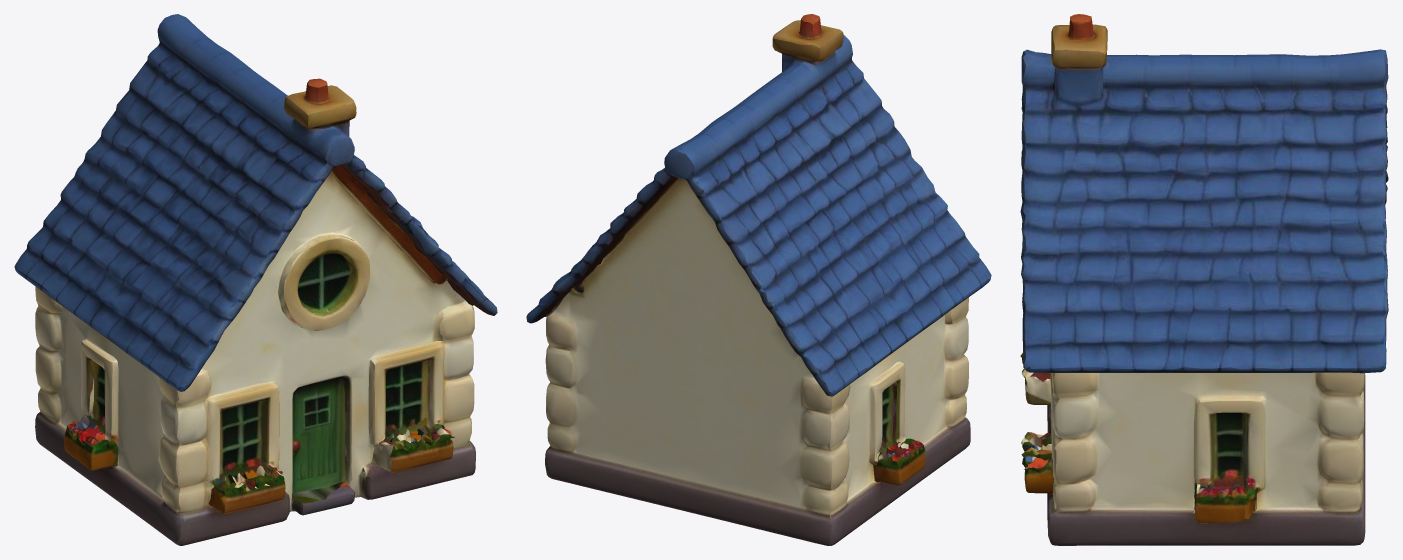
File: cottage_c.glb
3 renders of one model, left to right at view 1: azimuth 30°, elevation 25°; view 2: azimuth 150°, elevation 25°; view 3: azimuth 270°, elevation 25°, orthographic. The views are drawn at different scales.
Parts seen in each view (by area): view 1: cottage_c; view 2: cottage_c; view 3: cottage_c.
Boxes of the visible parts, bbox=[...] form: cottage_c: bbox=[14, 14, 497, 545]; cottage_c: bbox=[526, 14, 991, 545]; cottage_c: bbox=[1020, 14, 1388, 545].
Size of the model in its own units: 0.8649 by 1 by 0.7355.
Materials: 1 (1 with a texture image).
